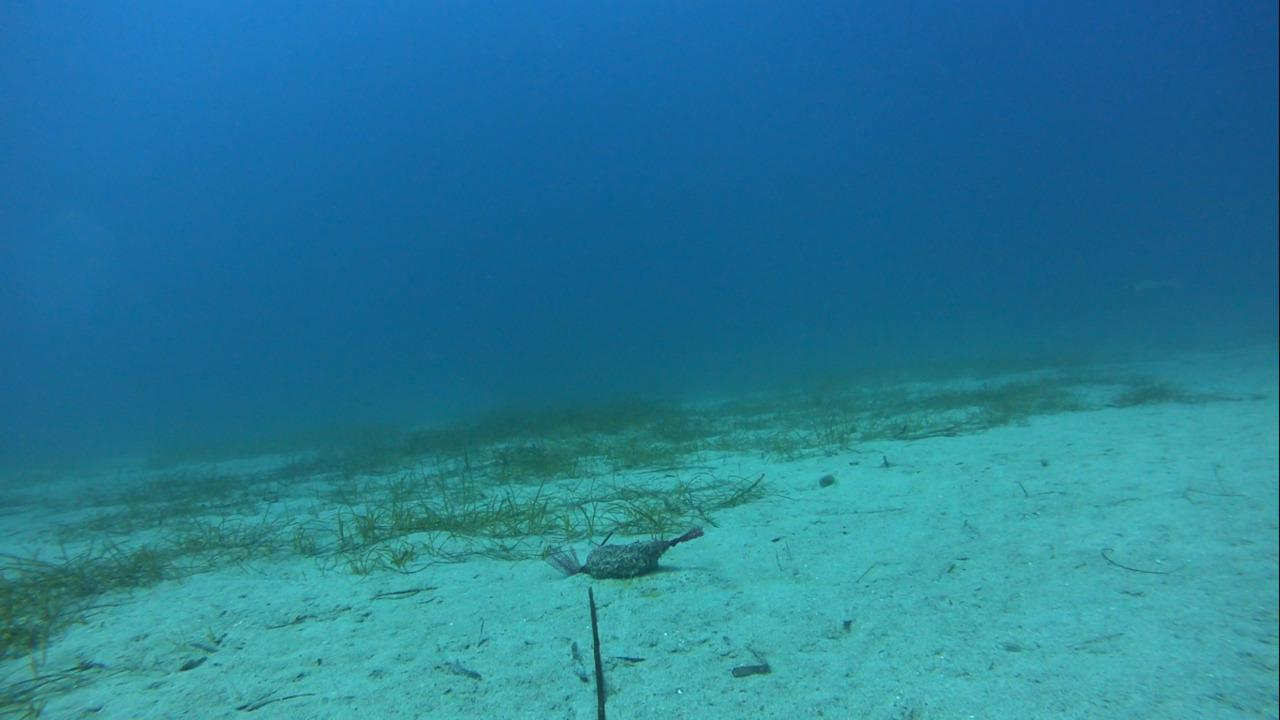dactylopterus: (1120, 265, 1186, 300)
